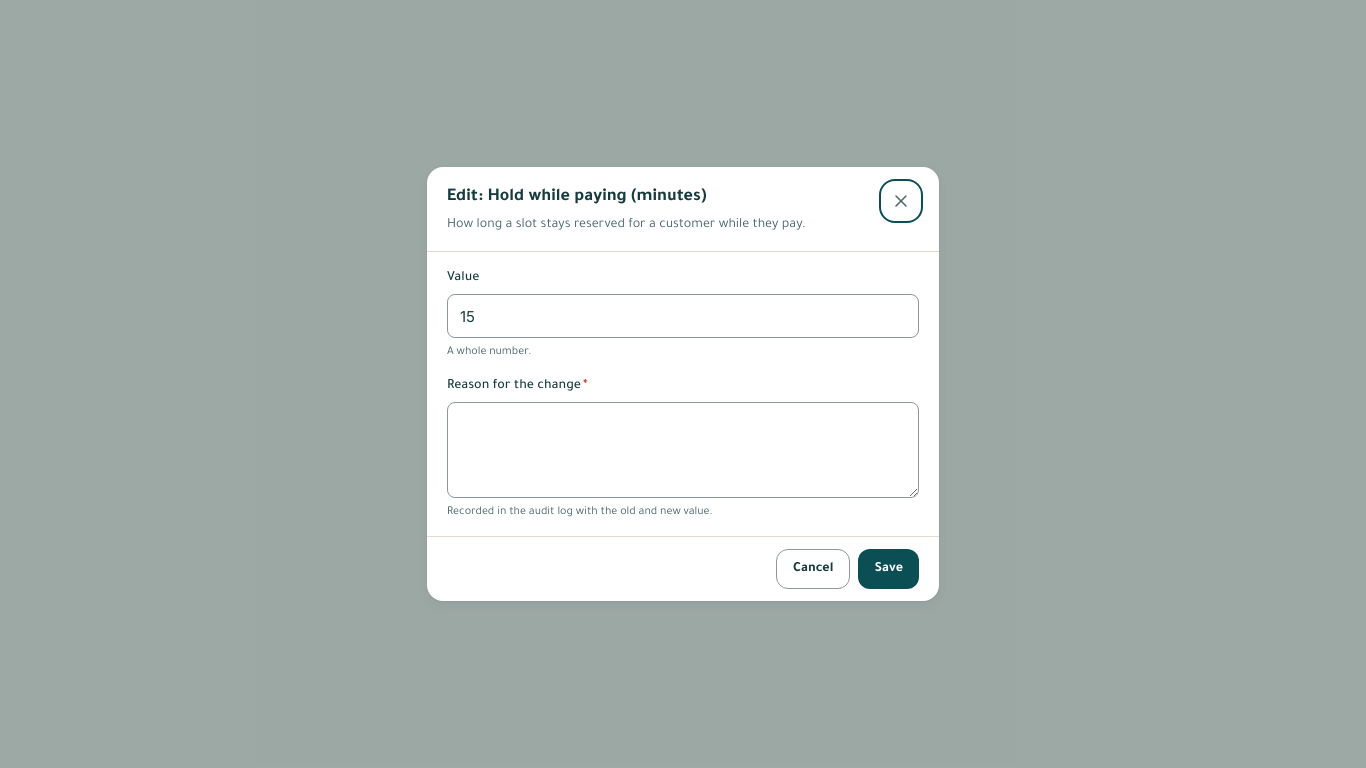
Test case: SettingEditDialog › uses our bilingual label and requires a reason
Expected: the dialog "Edit: Hold while paying (minutes)" is shown, left=427, top=167, right=939, bottom=601
Click the button "Save" at point(889, 569), box left=858, top=549, right=919, bottom=589
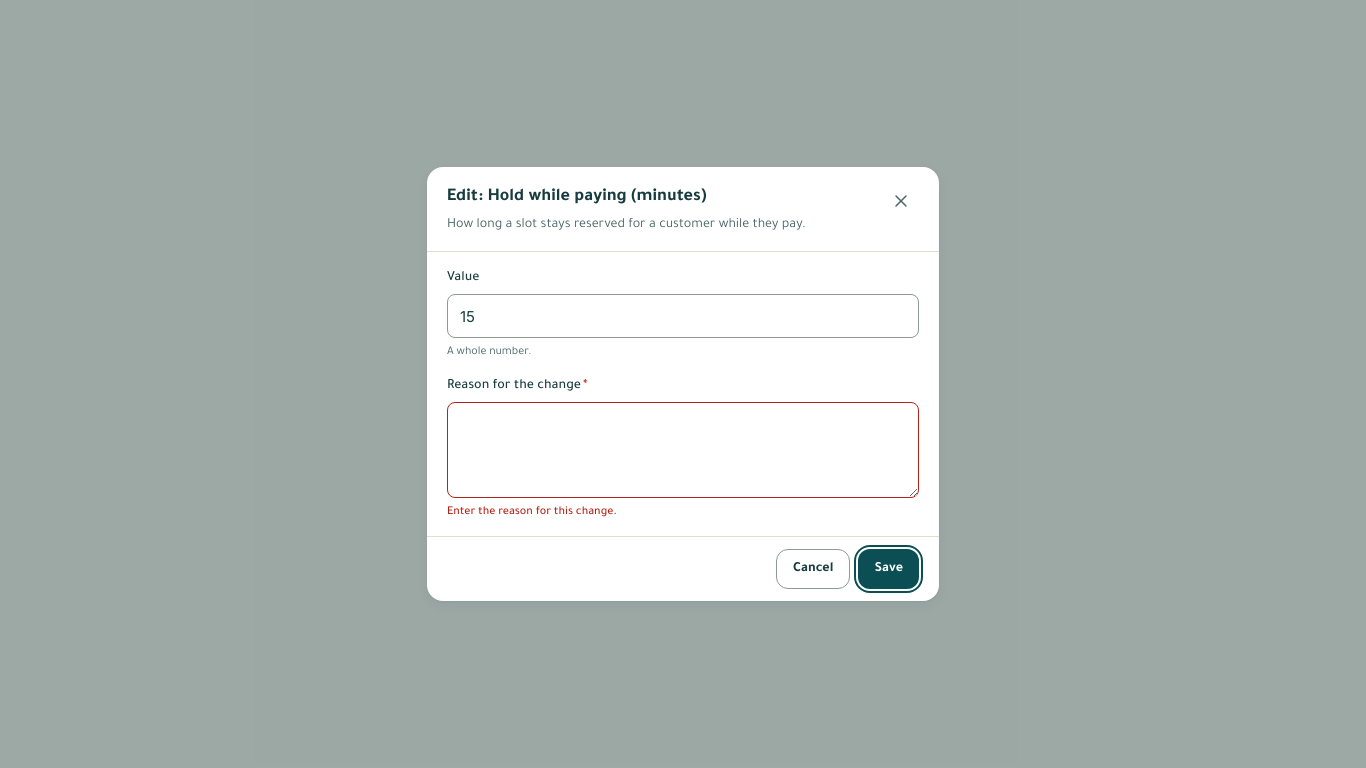
Expected: the text "Enter the reason for this change." is shown, left=447, top=506, right=617, bottom=518
